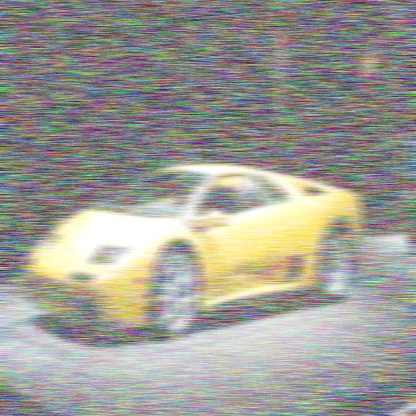Vehicle: (10, 112, 402, 398)
